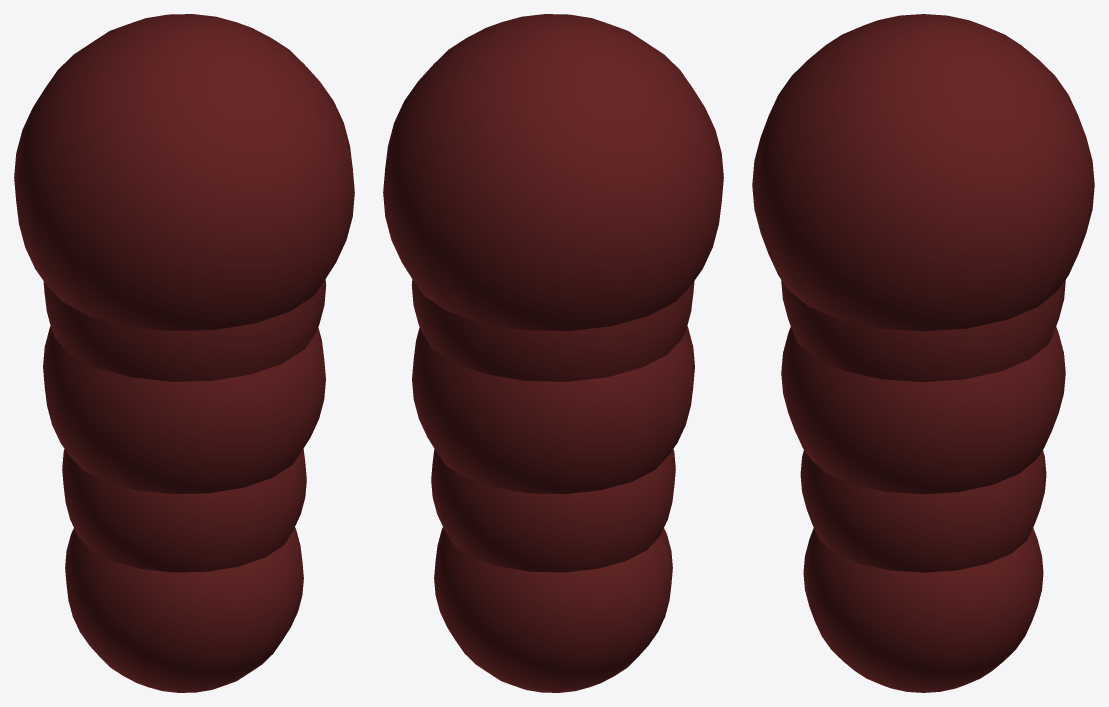
File: House8.fbx
The picture shows the model from 3 angles, left to right: view 1: azimuth 30°, elevation 25°; view 2: azimuth 150°, elevation 25°; view 3: azimuth 270°, elevation 25°; orthographic projection.
Parts seen in each view (by area): view 1: pSphere5, pSphere3, pSphere1, pSphere2, pSphere4; view 2: pSphere5, pSphere3, pSphere1, pSphere2, pSphere4; view 3: pSphere5, pSphere3, pSphere1, pSphere2, pSphere4.
Part boxes in pixels (bbox=[...]): pSphere5: bbox=[14, 14, 354, 330]; pSphere3: bbox=[43, 326, 325, 494]; pSphere1: bbox=[65, 527, 303, 692]; pSphere2: bbox=[62, 449, 306, 572]; pSphere4: bbox=[43, 279, 326, 381]; pSphere5: bbox=[383, 14, 723, 330]; pSphere3: bbox=[412, 326, 694, 494]; pSphere1: bbox=[434, 527, 672, 692]; pSphere2: bbox=[431, 449, 675, 572]; pSphere4: bbox=[411, 279, 694, 381]; pSphere5: bbox=[752, 14, 1094, 331]; pSphere3: bbox=[781, 326, 1065, 494]; pSphere1: bbox=[803, 528, 1043, 692]; pSphere2: bbox=[800, 450, 1046, 572]; pSphere4: bbox=[781, 279, 1065, 381].
Bounding box in the file's own units: 26.42 × 55.49 × 26.42.
